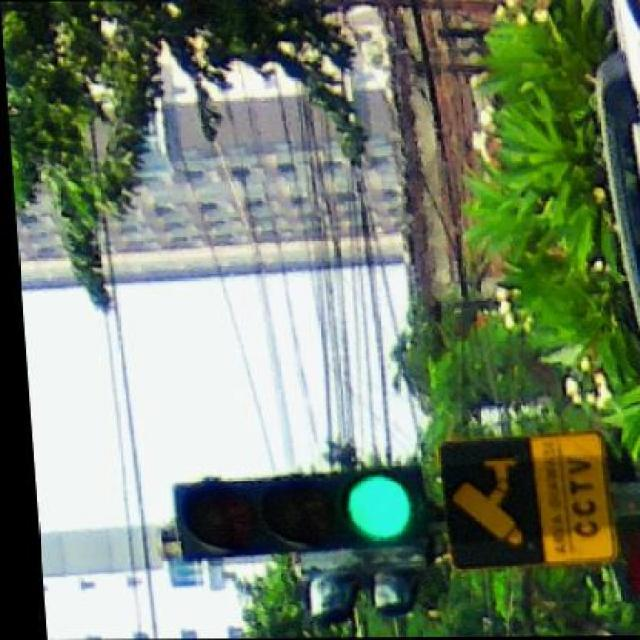traffic light: (173, 465, 432, 565)
